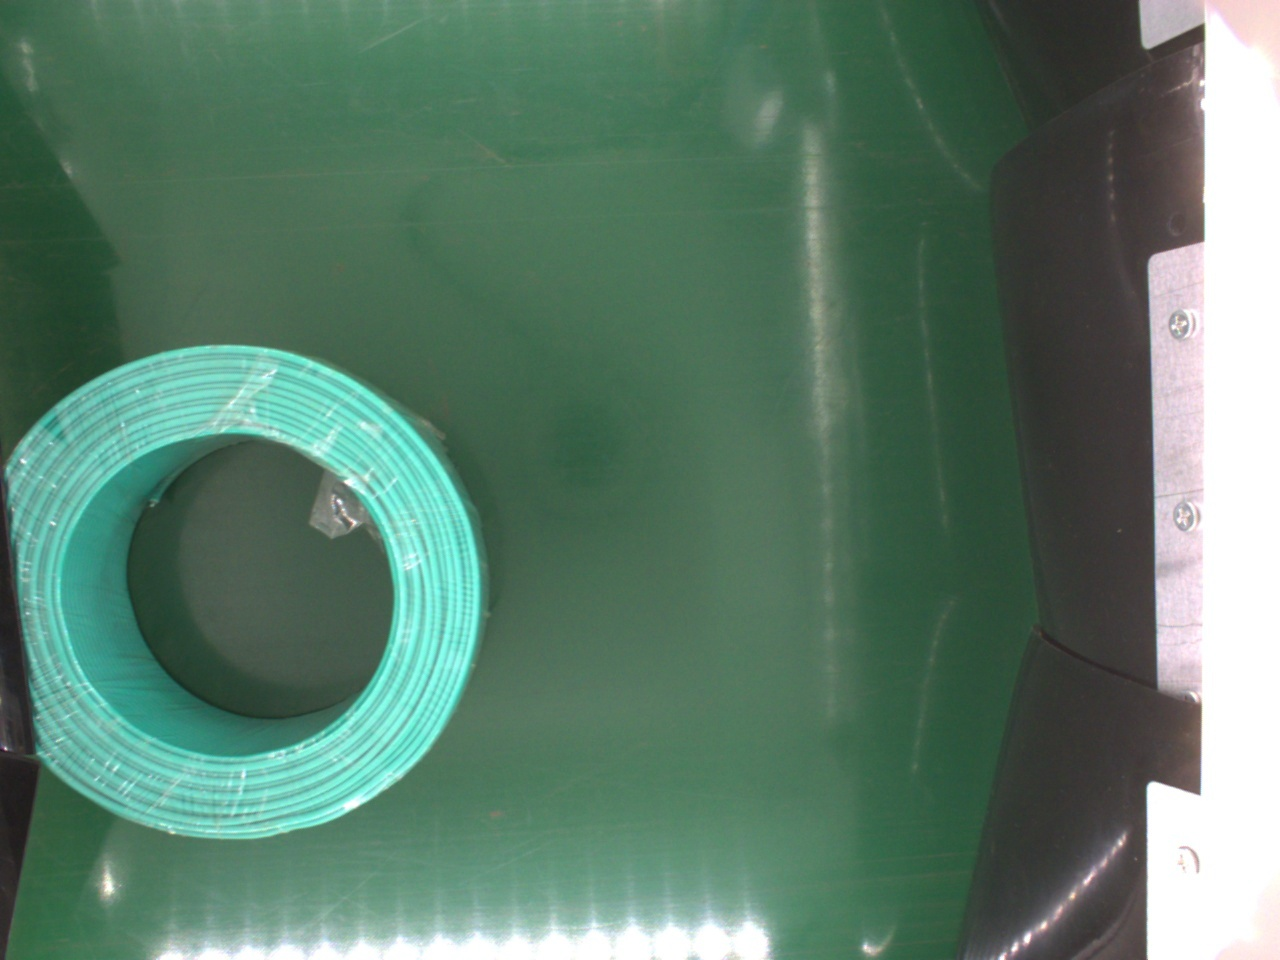green: (8, 343, 487, 846)
